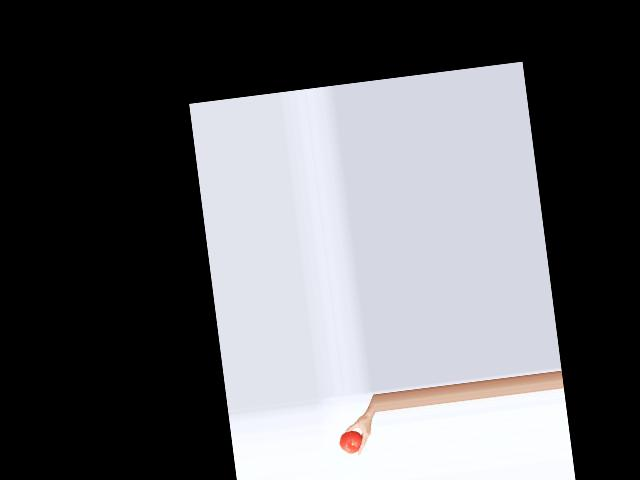tomato: (338, 430, 363, 455)
